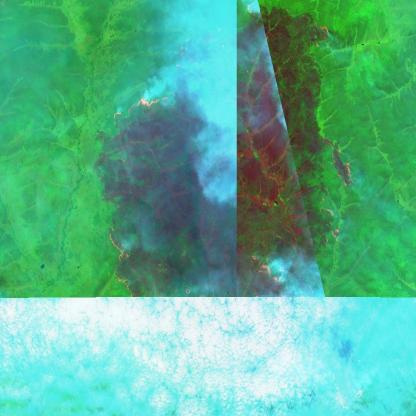fire: (101, 89, 180, 139), (104, 217, 146, 308), (320, 139, 355, 246), (246, 248, 297, 315), (303, 15, 336, 66)
